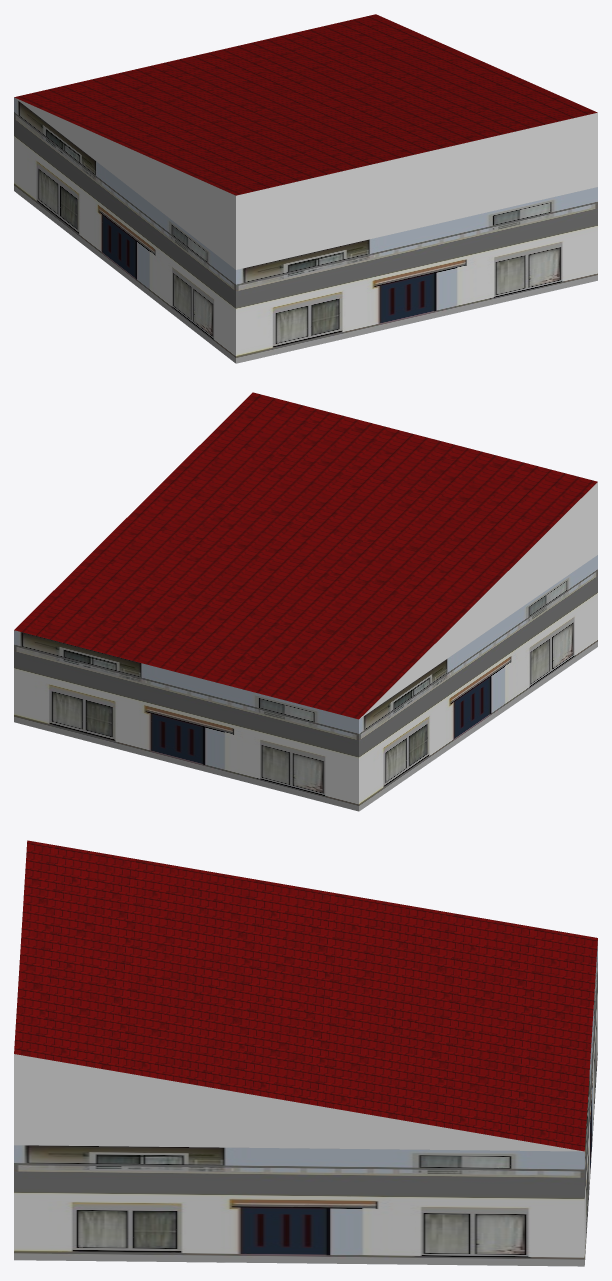
The picture shows the model from 3 angles, top to bottom: view 1: azimuth 30°, elevation 25°; view 2: azimuth 150°, elevation 25°; view 3: azimuth 270°, elevation 25°; orthographic projection. The views are drawn at different scales.
Parts seen in each view (by area): view 1: CityEngineMaterial_7_m, CityEngineMaterial_17_m, CityEngineMaterial_3_m; view 2: CityEngineMaterial_17_m, CityEngineMaterial_7_m, CityEngineMaterial_3_m; view 3: CityEngineMaterial_17_m, CityEngineMaterial_7_m, CityEngineMaterial_3_m.
Part boxes in pixels (bbox=[...]): CityEngineMaterial_7_m: bbox=[14, 97, 597, 363]; CityEngineMaterial_17_m: bbox=[14, 14, 597, 195]; CityEngineMaterial_3_m: bbox=[14, 97, 597, 269]; CityEngineMaterial_17_m: bbox=[14, 392, 597, 719]; CityEngineMaterial_7_m: bbox=[14, 555, 597, 811]; CityEngineMaterial_3_m: bbox=[359, 482, 597, 719]; CityEngineMaterial_17_m: bbox=[14, 840, 597, 1151]; CityEngineMaterial_7_m: bbox=[14, 941, 597, 1266]; CityEngineMaterial_3_m: bbox=[14, 1054, 583, 1151].
Bounding box in the file's own units: 25.7 × 11.24 × 28.85.
